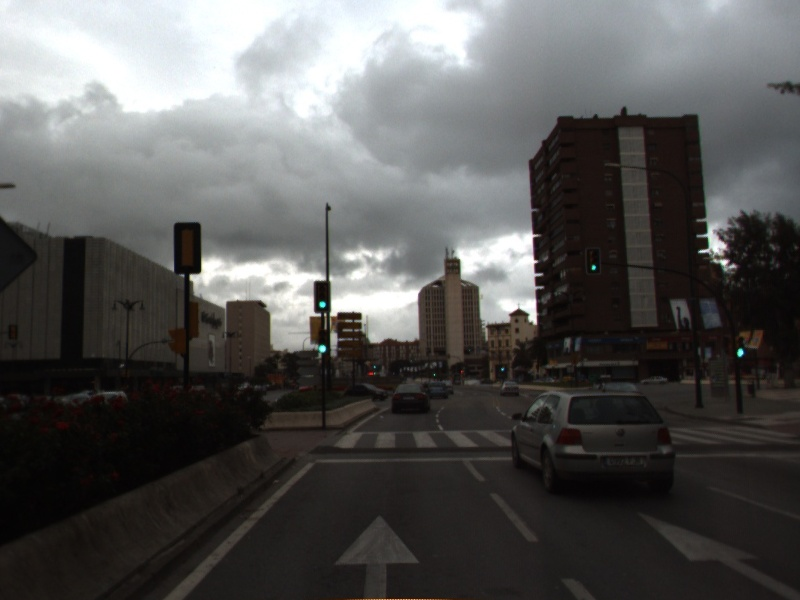STRAIGHT: (631, 507, 800, 599), (330, 508, 425, 599)
